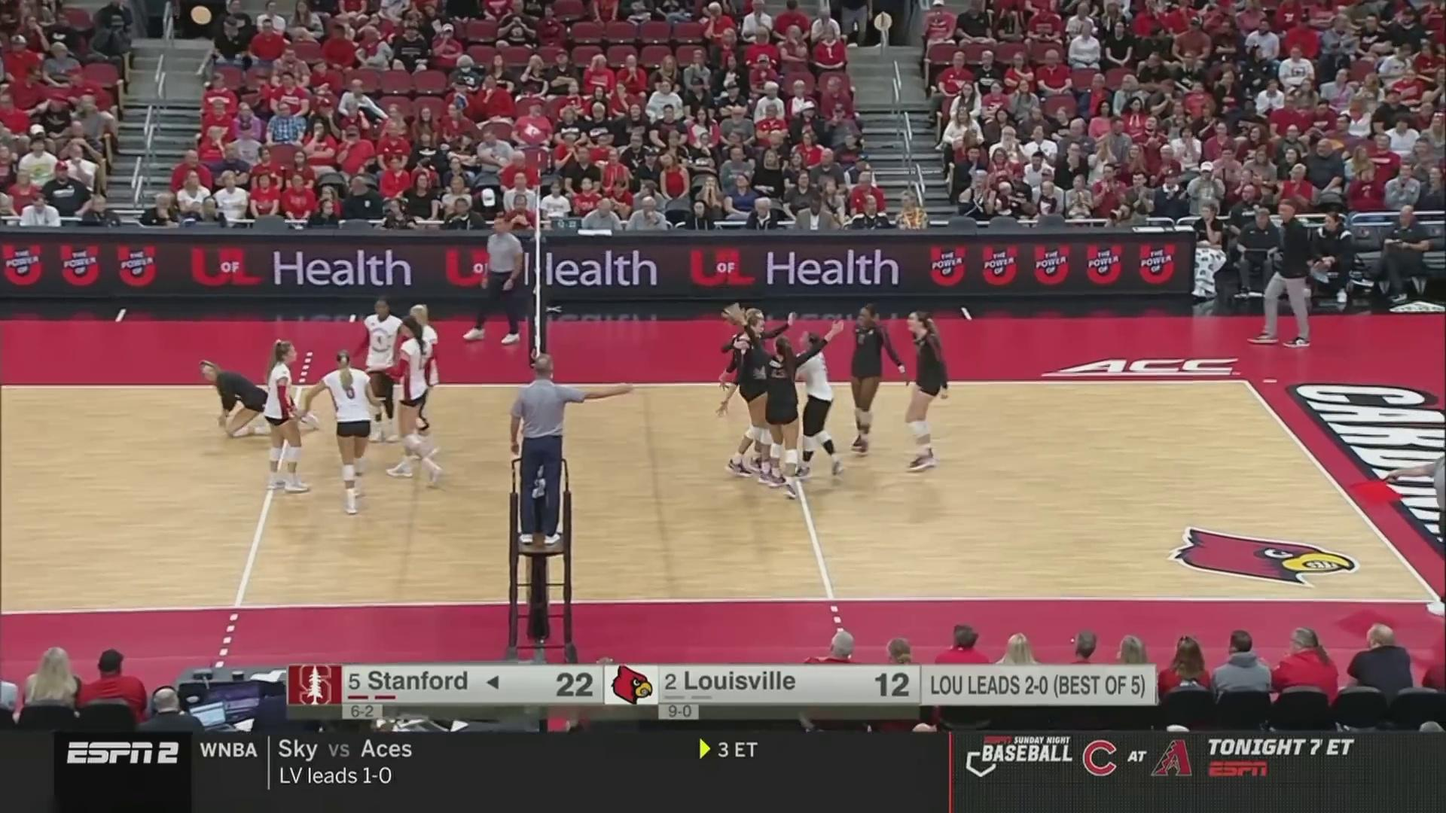player: (299, 352, 380, 519), (380, 317, 449, 480), (199, 357, 319, 440), (899, 309, 958, 477), (732, 306, 786, 472), (845, 304, 903, 458), (794, 330, 848, 479), (757, 338, 806, 498), (261, 341, 307, 493), (729, 318, 773, 475), (359, 297, 404, 446), (401, 304, 441, 460)
refree: (511, 356, 625, 544), (459, 216, 530, 344)
